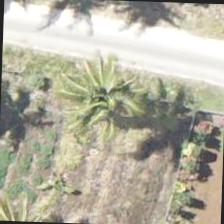Kelapa_Sawit: (61, 50, 154, 144)
